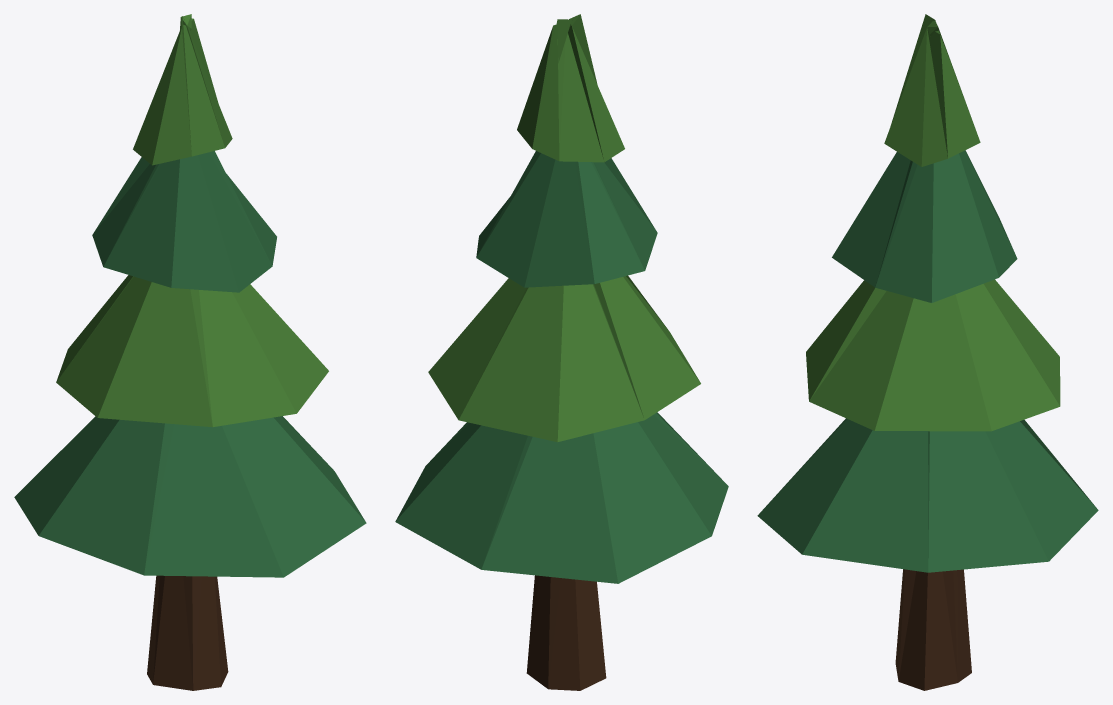
File: TreePine.obj
3 views of the same model, side by side, from view 1: azimuth 30°, elevation 25°; view 2: azimuth 150°, elevation 25°; view 3: azimuth 270°, elevation 25° (orthographic).
Visible parts, largest first — view 1: TreePine; view 2: TreePine; view 3: TreePine.
Part boxes in pixels (box(x1,y1,x2,y2)): TreePine: box(14, 14, 366, 690); TreePine: box(395, 14, 728, 690); TreePine: box(757, 14, 1098, 690).
Size of the model in its own units: 6.37 by 13.86 by 6.54.
